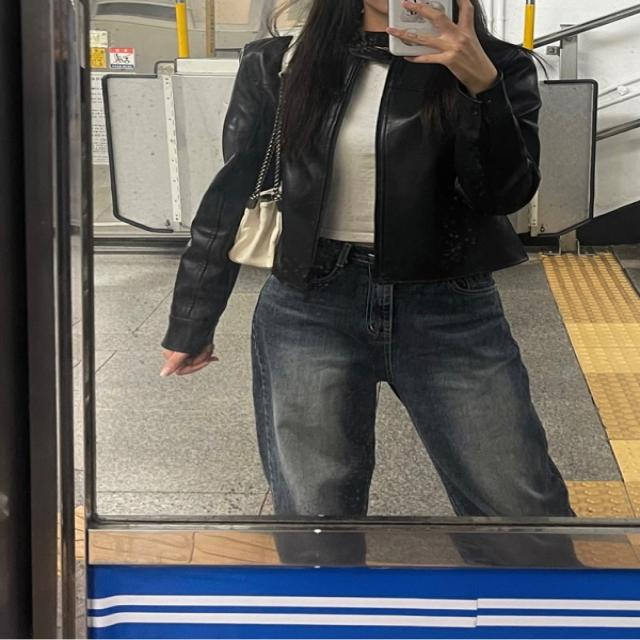denimpants: (255, 242, 577, 568)
jacket: (166, 18, 549, 354)
